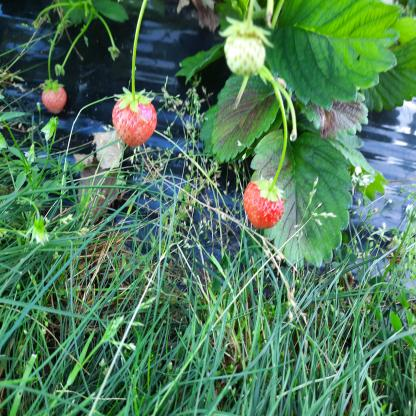ripe: (115, 92, 157, 146), (241, 184, 285, 226), (43, 84, 70, 112)
